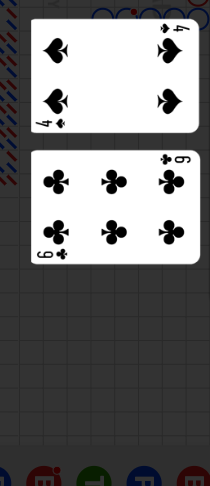4S: (157, 23, 191, 36)
6C: (35, 247, 70, 261)
